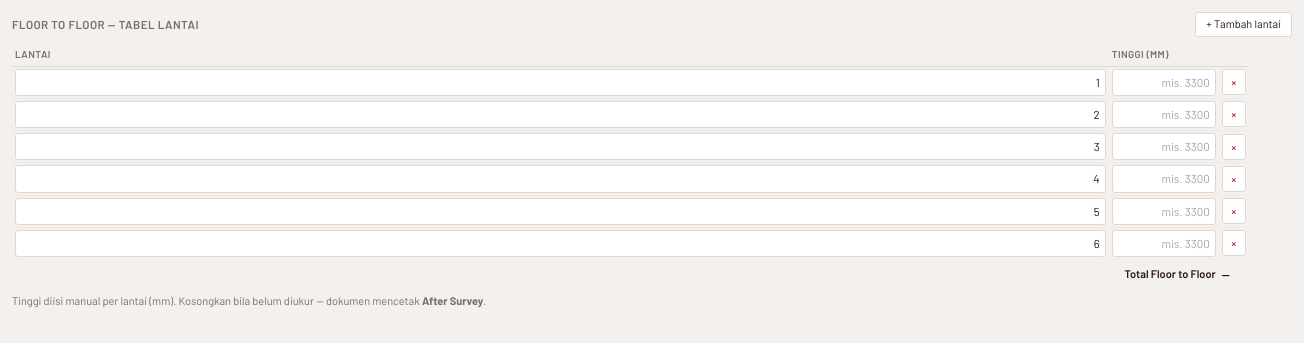
it: Tabel Lantai — editor Floor to Floor › menjumlahkan tinggi yang diketik manual
In the field named "Tinggi lantai 1 (mm)": (1164, 82) [1112, 68, 1216, 96], type "4300"
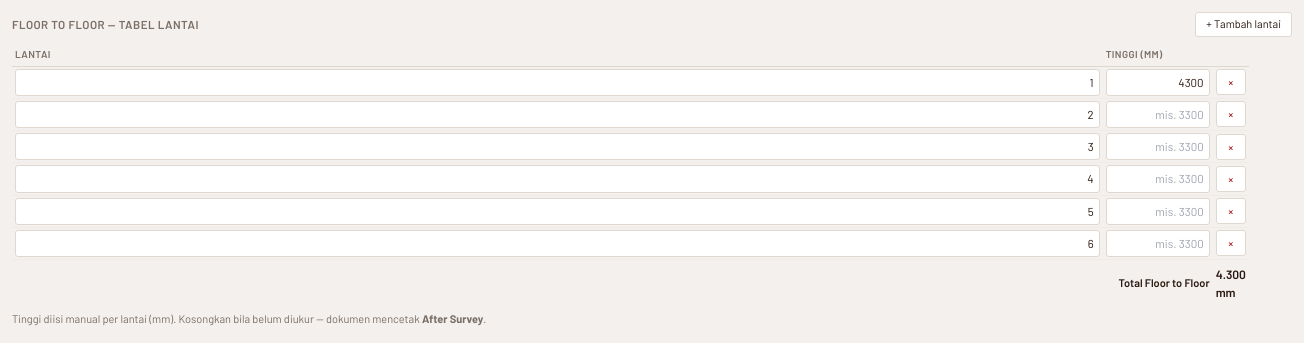
In the field named "Tinggi lantai 2 (mm)": (1158, 114) [1106, 101, 1210, 128], type "3300"
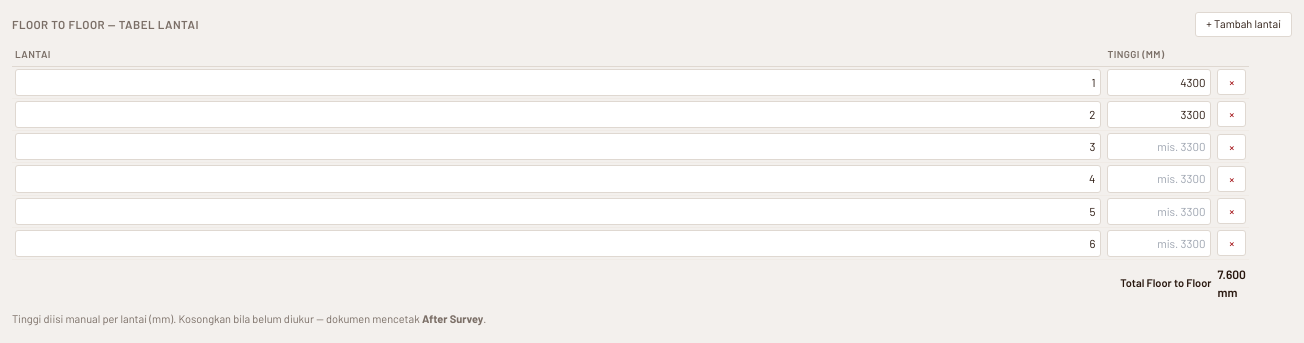
In the field named "Tinggi lantai 3 (mm)": (1160, 147) [1108, 133, 1212, 160], type "3100"
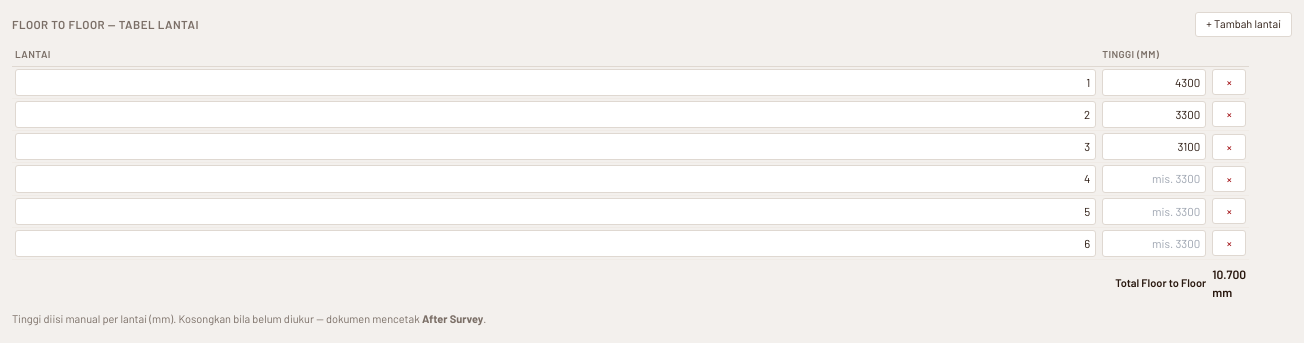
expect the cell with test id "total" reads "10.700 mm": met, box [1212, 267, 1246, 299]
